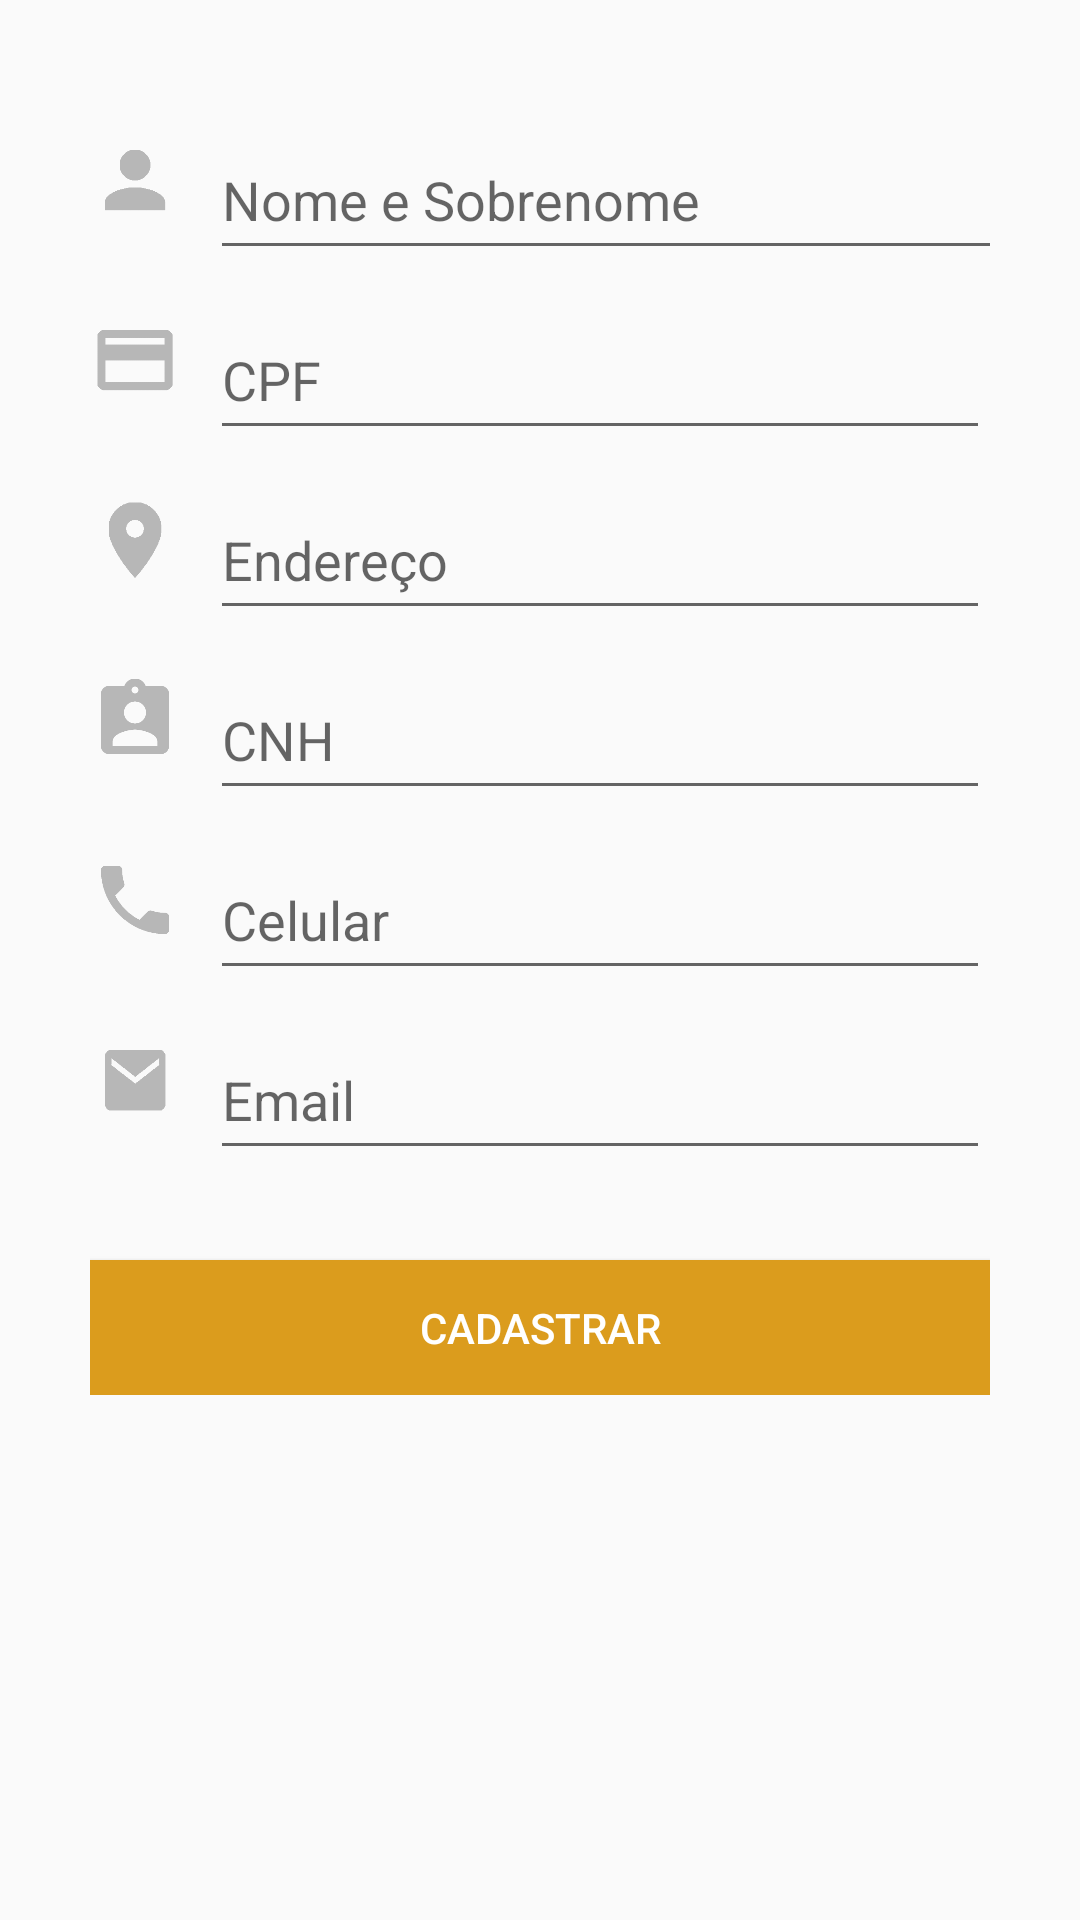

Screen size 1080px x 1920px. Icon name, then its box in pixels as (x1, y1, x2, y2):
aluno: (105, 150, 165, 210)
endereco: (109, 502, 161, 578)
